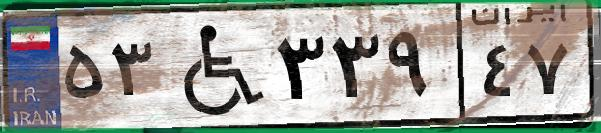3: (270, 28, 330, 110), (330, 28, 385, 110), (110, 28, 158, 98)
4: (475, 38, 525, 113)
5: (57, 26, 110, 100)
7: (525, 38, 570, 115)
9: (385, 28, 445, 110)
ژ (معلولین و جانبازان): (158, 12, 270, 120)
